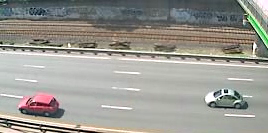car: (15, 92, 63, 118), (203, 86, 249, 110)
